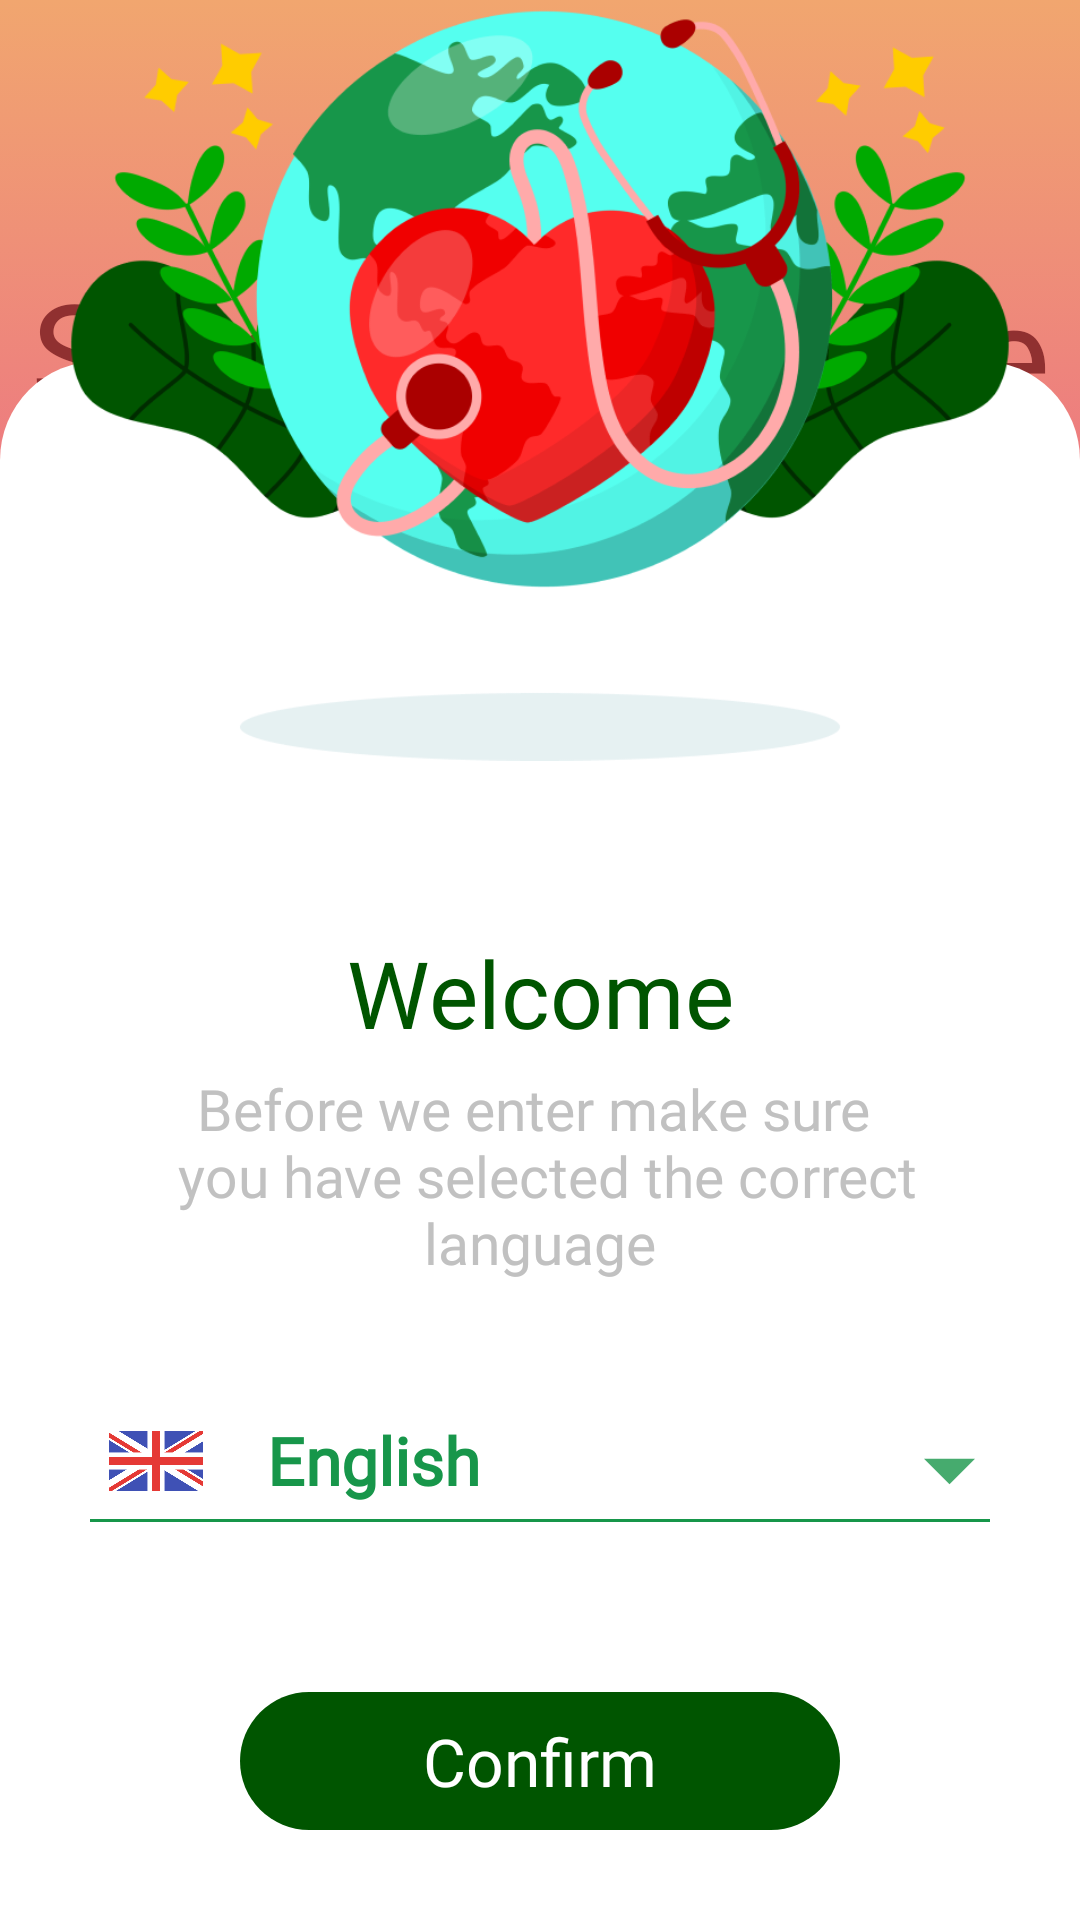

Icons on this 1080×1920 Android screen, each with its box as (x1, y1, x2, y2):
arrow down: (924, 1458, 975, 1484)
